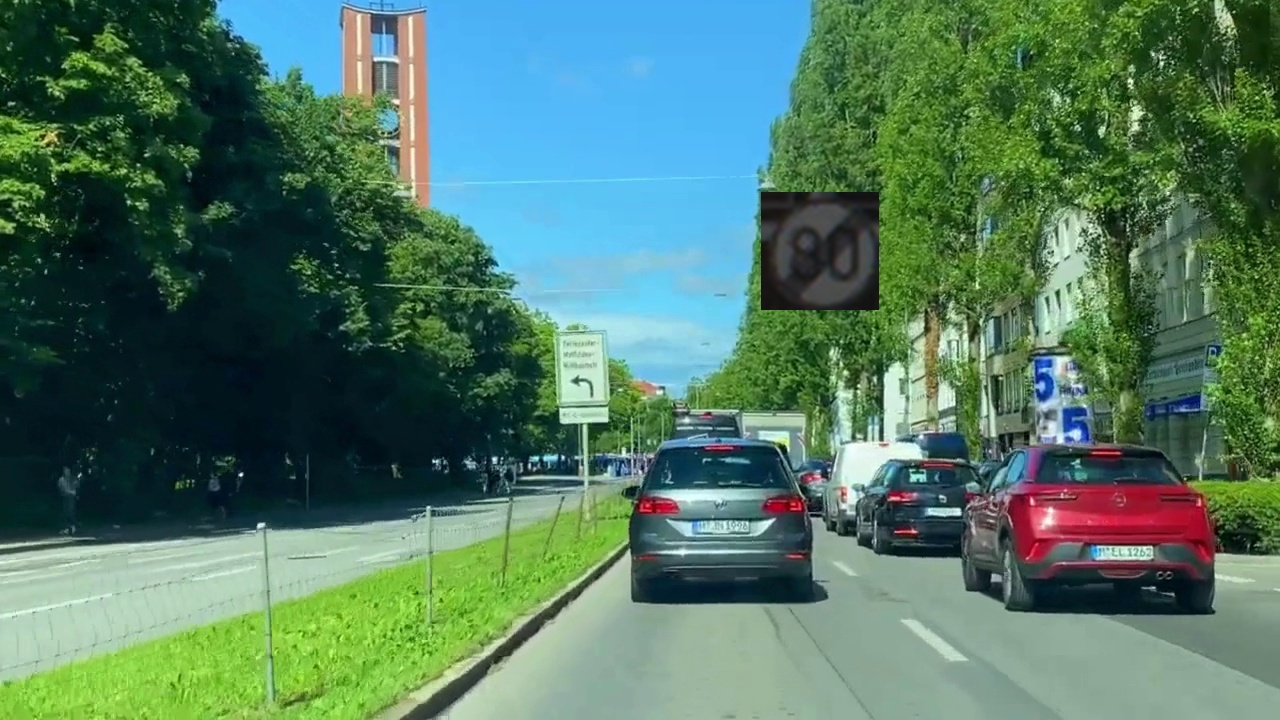End Speed 80: (761, 192, 879, 310)
